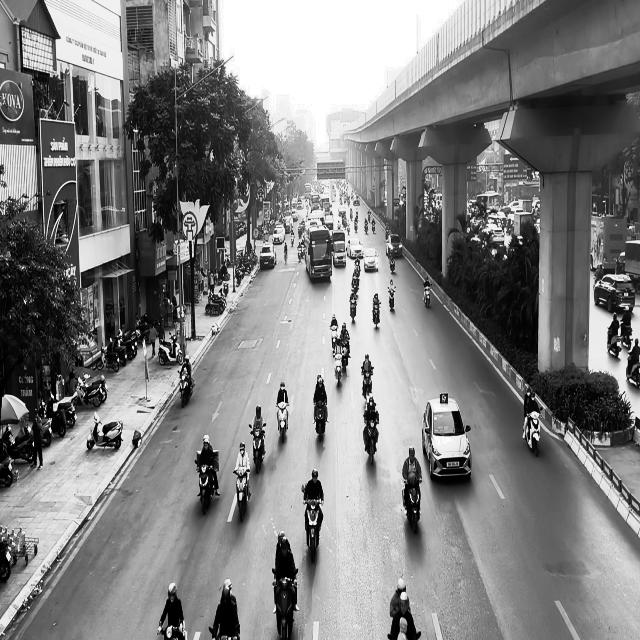car: (421, 392, 472, 481), (386, 233, 402, 258), (363, 248, 379, 271)
motorbike: (272, 567, 298, 640), (195, 450, 218, 514), (86, 412, 123, 450), (302, 498, 323, 562), (401, 478, 422, 534), (523, 406, 543, 456), (233, 468, 251, 522), (248, 422, 266, 473), (363, 413, 379, 465), (177, 368, 195, 408), (312, 399, 328, 442), (276, 402, 290, 442), (157, 622, 187, 640), (626, 353, 640, 388), (361, 365, 373, 398), (334, 352, 344, 386), (349, 289, 358, 321), (422, 281, 432, 308), (372, 301, 381, 328), (388, 282, 395, 310)
